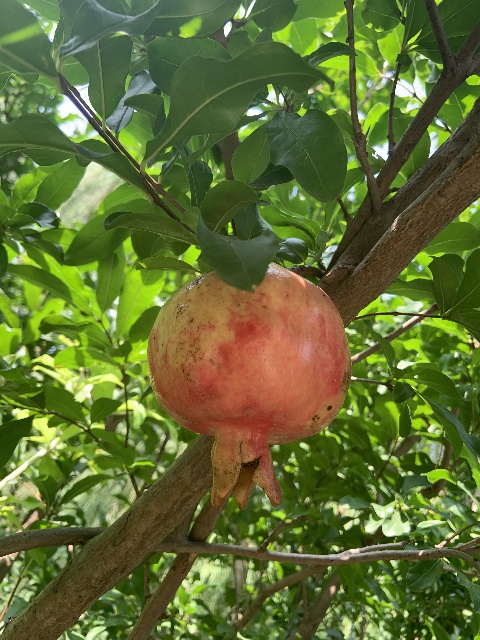ripe: (147, 265, 350, 510)
